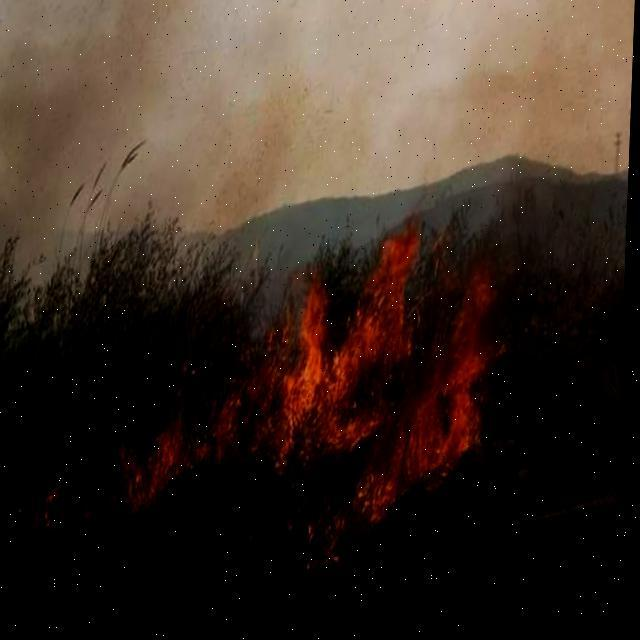Fire: (120, 234, 496, 566)
